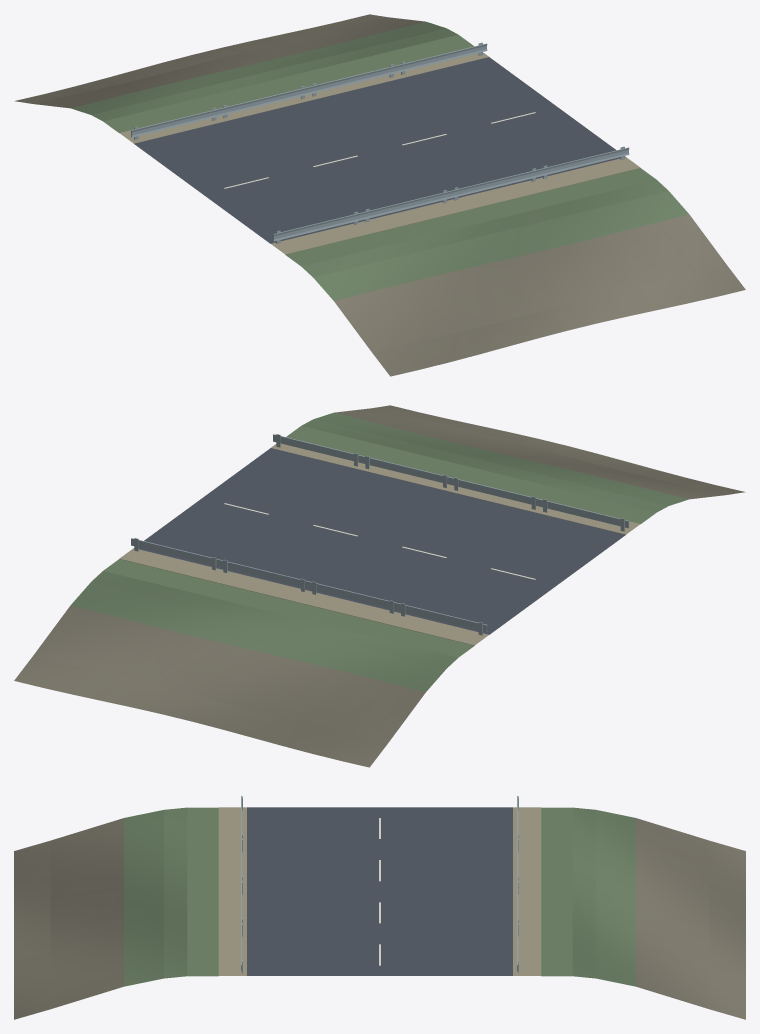
File: road.glb
The picture shows the model from 3 angles, top to bottom: view 1: azimuth 30°, elevation 25°; view 2: azimuth 150°, elevation 25°; view 3: azimuth 270°, elevation 25°; orthographic projection. The views are drawn at different scales.
Parts seen in each view (by area): view 1: road-and-graded-shoulder, rail--1-3, rail-1-3, rail--1--9, rail-1--9, rail--1-9, rail-1-9, rail--1--3, rail-1--3; view 2: road-and-graded-shoulder, rail--1--9, rail-1--9, rail-1--3, rail--1--3, rail--1-9, rail-1-9, rail--1-3, rail-1-3; view 3: road-and-graded-shoulder.
Boxes of the visible parts, <box> form: road-and-graded-shoulder: <box>14,14,745,376</box>; rail--1-3: <box>309,64,398,96</box>; rail-1-3: <box>451,168,540,200</box>; rail--1--9: <box>131,107,220,139</box>; rail-1--9: <box>273,211,362,243</box>; rail--1-9: <box>398,42,487,74</box>; rail-1-9: <box>540,146,629,178</box>; rail--1--3: <box>220,86,309,118</box>; rail-1--3: <box>362,190,451,222</box>; road-and-graded-shoulder: <box>14,405,745,767</box>; rail--1--9: <box>397,603,487,635</box>; rail-1--9: <box>539,499,629,531</box>; rail-1--3: <box>451,477,539,509</box>; rail--1--3: <box>309,581,397,613</box>; rail--1-9: <box>131,538,220,570</box>; rail-1-9: <box>273,434,362,466</box>; rail--1-3: <box>220,559,309,591</box>; rail-1-3: <box>362,456,450,487</box>; road-and-graded-shoulder: <box>14,807,745,1019</box>.
Bounding box in the file's own units: 24 × 3.77 × 44.
